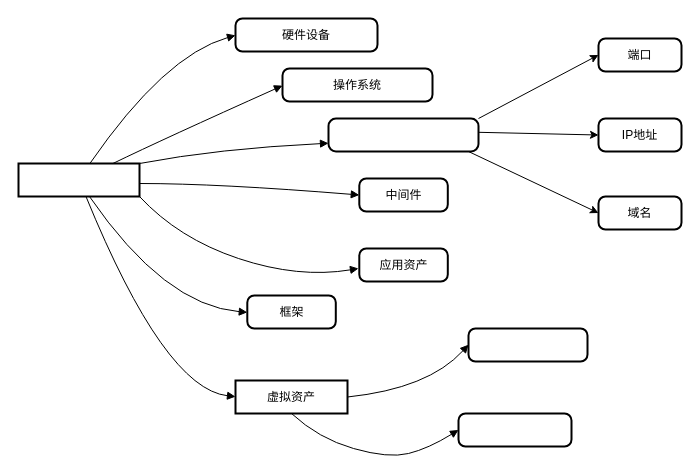
This 699x473 diagram has some shape labels left out. Here are the shapes that lost their labels. From the top down, the centre of each, then its label:
(x=403, y=134): 网络资产
(x=78, y=179): 互联网资产
(x=527, y=344): 云服务器
(x=514, y=429): 云主机
